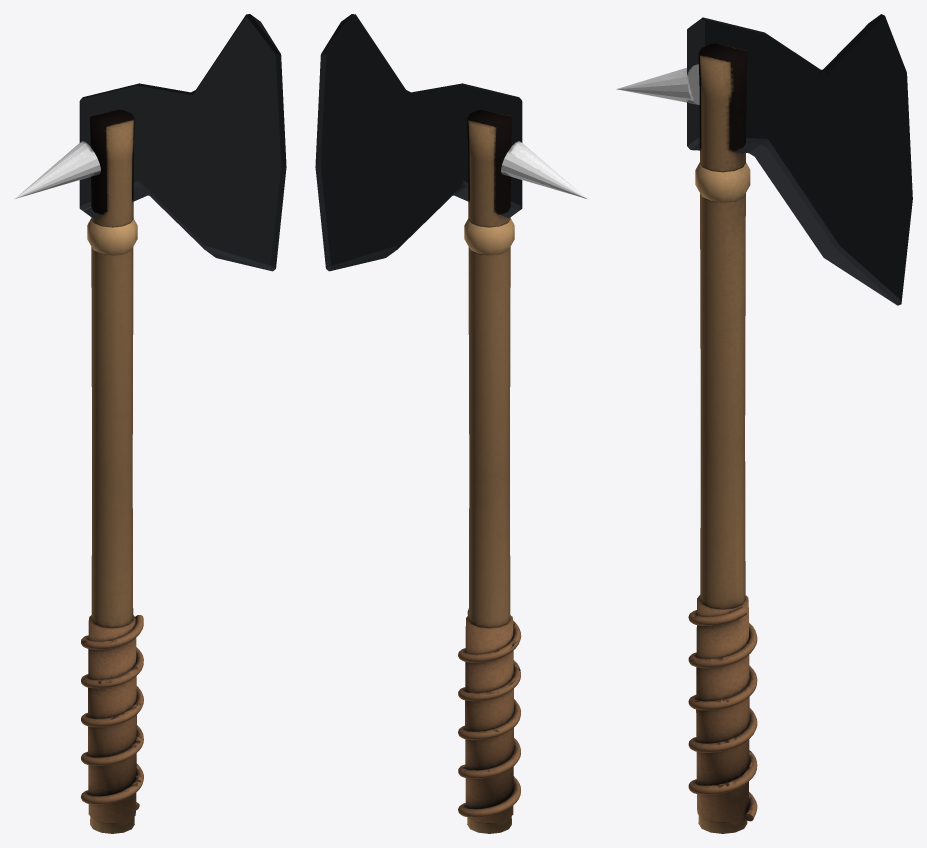
The model's file is arma_machado_mao_refinada.glb.
3 views of the same model, side by side, from view 1: azimuth 30°, elevation 25°; view 2: azimuth 150°, elevation 25°; view 3: azimuth 330°, elevation 25° (orthographic). The views are drawn at different scales.
Parts seen in each view (by area): view 1: arma_machado_mao_refinada; view 2: arma_machado_mao_refinada; view 3: arma_machado_mao_refinada.
Part boxes in pixels (x1,y1,x2,y2): arma_machado_mao_refinada: (15,14,286,833); arma_machado_mao_refinada: (315,14,586,833); arma_machado_mao_refinada: (616,14,912,833).
Size of the model in its own units: 0.25 by 0.6777 by 0.0504.
1 material, 1 textured.
